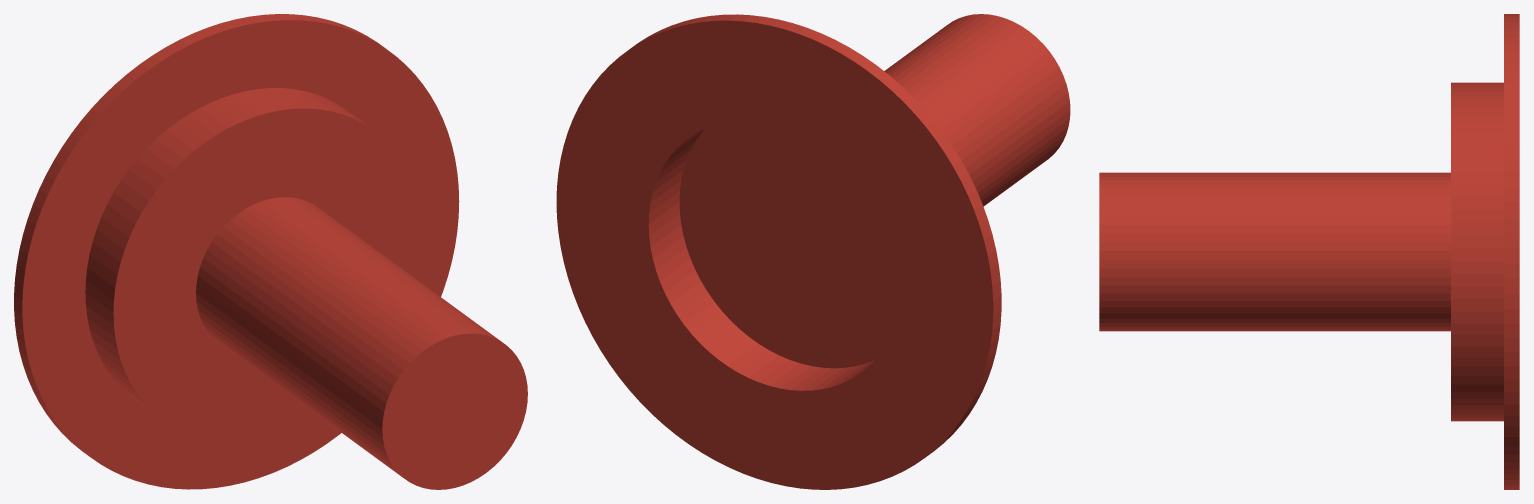
Rendered from flipper_fl_link.dae.
The picture shows the model from 3 angles, left to right: view 1: azimuth 30°, elevation 25°; view 2: azimuth 150°, elevation 25°; view 3: azimuth 270°, elevation 25°; orthographic projection. The views are drawn at different scales.
Visible parts, largest first — view 1: nodo; view 2: nodo; view 3: nodo.
Boxes of the visible parts, x1,y1,x2,y2 form: nodo: (14, 14, 527, 489); nodo: (556, 14, 1070, 489); nodo: (1099, 14, 1519, 489).
Bounding box in the file's own units: 0.09 × 0.0795 × 0.09.
